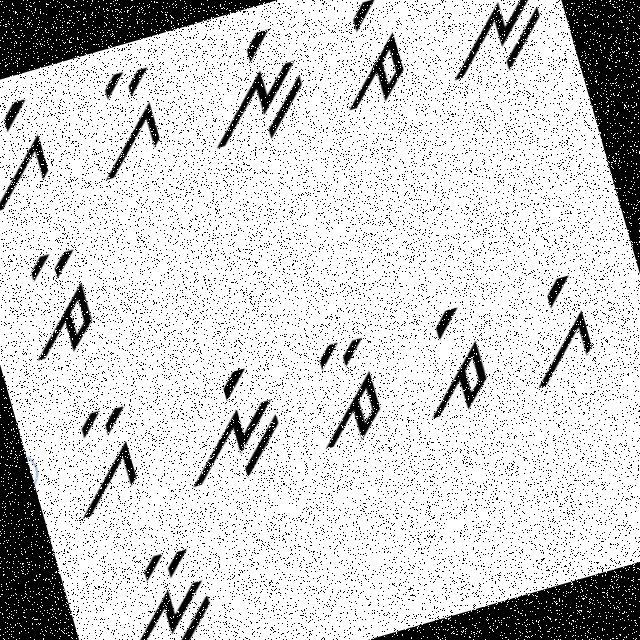gan: (44, 390, 162, 528), (77, 60, 182, 186)
gang: (504, 263, 609, 395), (0, 85, 68, 224)
ngan: (90, 530, 229, 639), (421, 0, 556, 90)
ngang: (157, 348, 307, 498), (185, 16, 322, 159)
tan: (0, 231, 113, 374), (296, 320, 400, 458)
tang: (393, 294, 501, 421), (309, 0, 420, 123)
